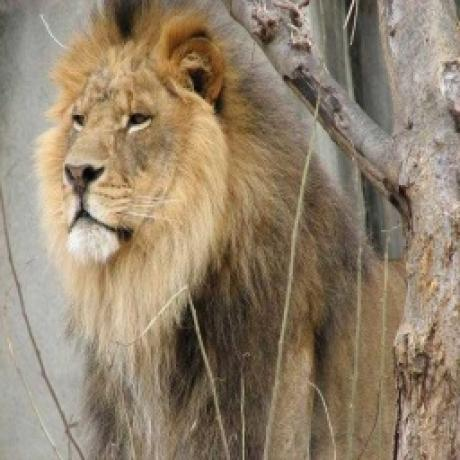Lion: (36, 0, 405, 460)
